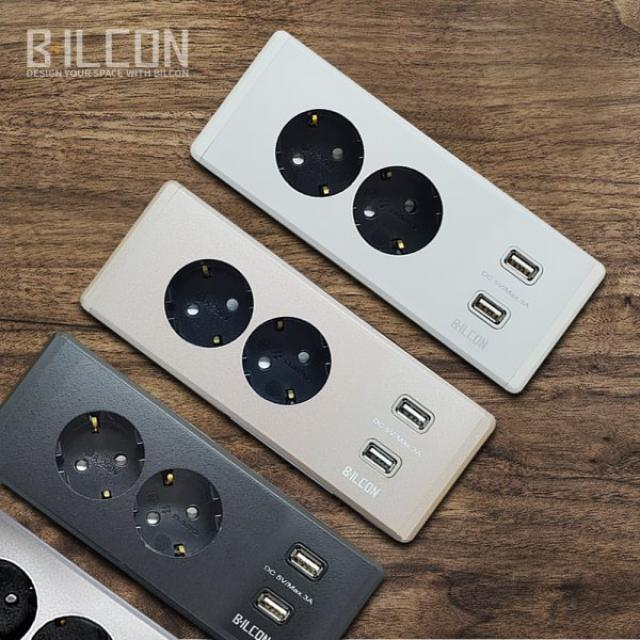typeb: (216, 51, 484, 271), (79, 218, 361, 420), (28, 375, 236, 600)
